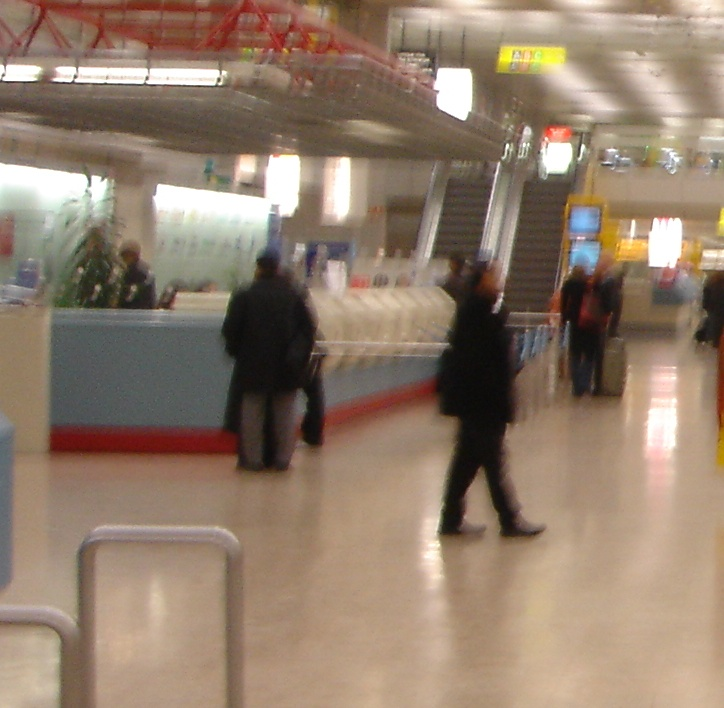person: (441, 258, 530, 543), (228, 245, 302, 471)
